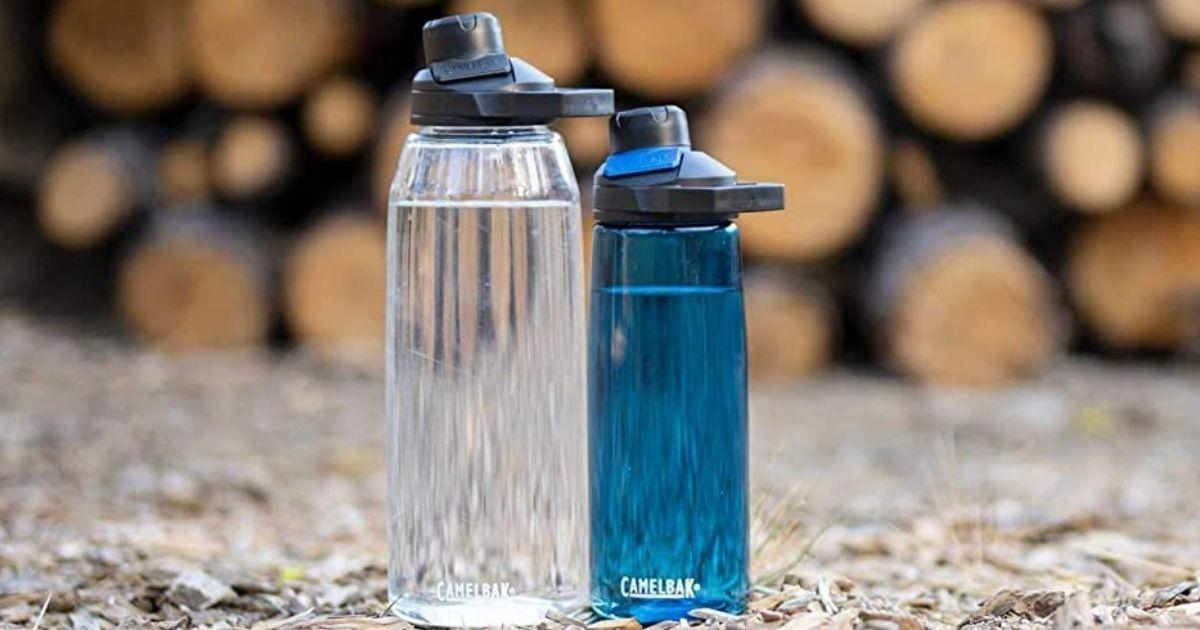gym bottle: (376, 8, 602, 629), (579, 106, 784, 629)
